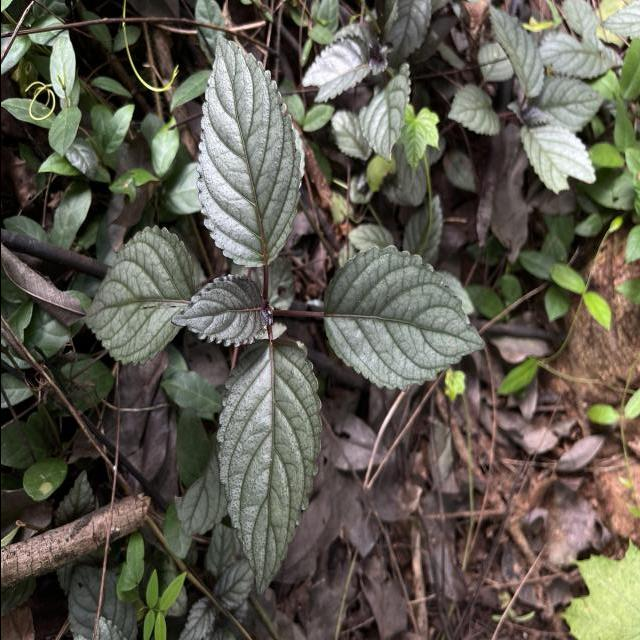Hemigraphis colorata: (213, 335, 326, 603), (192, 30, 304, 272), (320, 240, 488, 396), (79, 222, 197, 371), (168, 270, 271, 348), (353, 54, 412, 165)
